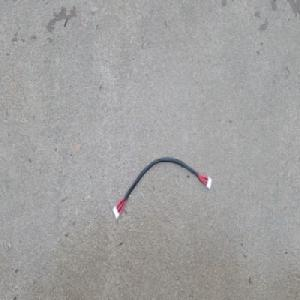Wire: (111, 155, 214, 222)
